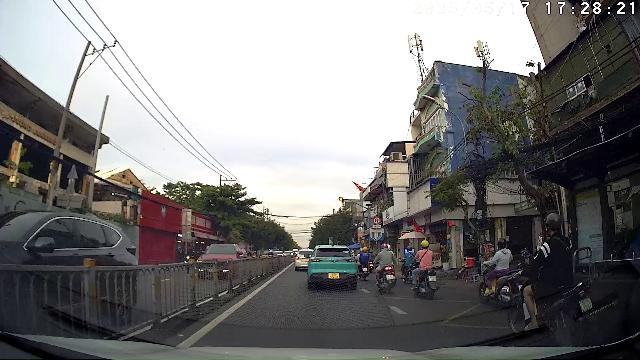124b-cam-oto-quay-dau-xe: (373, 216, 381, 224)
